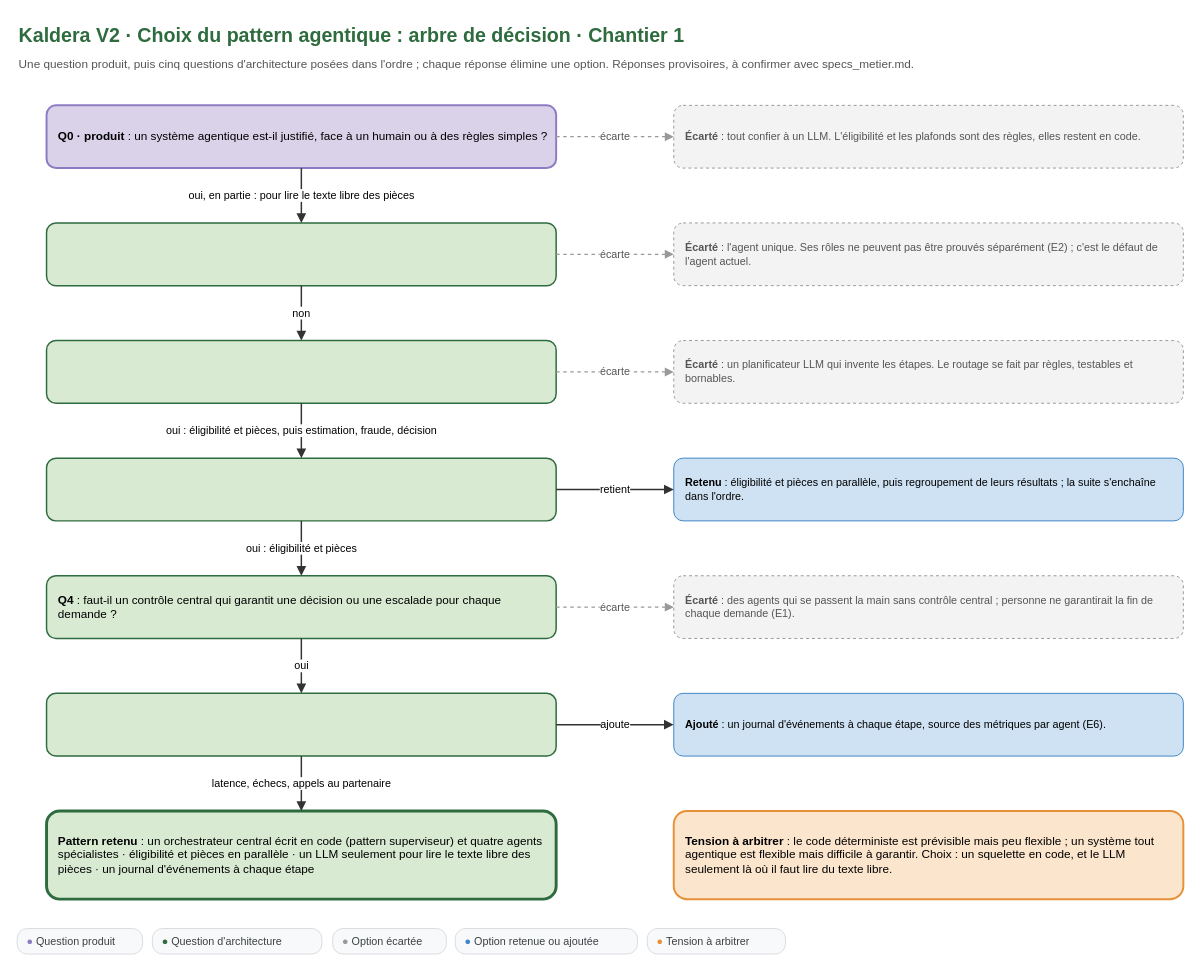
Some shapes in this 1201 by 971 pixel diagram are drawn without their labels. Each missing label, with the centre of its shape:
Q1 : un seul agent avec 10 à 15 outils suffit-il ?: (x=300, y=254)
Q2 : les étapes sont-elles connues d'avance, et dans quel ordre ?: (x=300, y=371)
Q3 : des sous-tâches peuvent-elles s'exécuter en parallèle ?: (x=300, y=489)
Q5 : quelles métriques par agent faut-il rendre visibles ?: (x=300, y=724)
